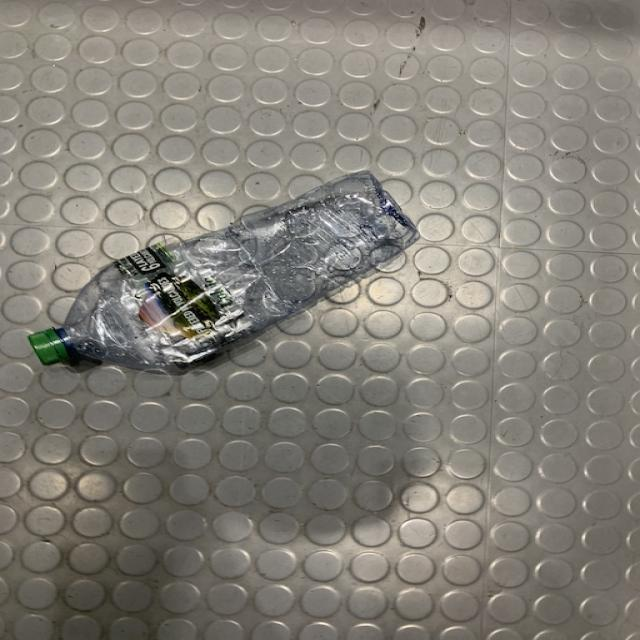litter: (29, 171, 421, 384)
